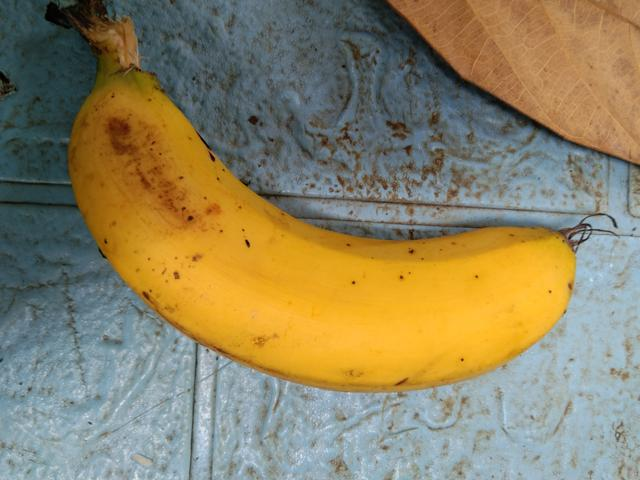freshripe: (53, 71, 583, 397)
